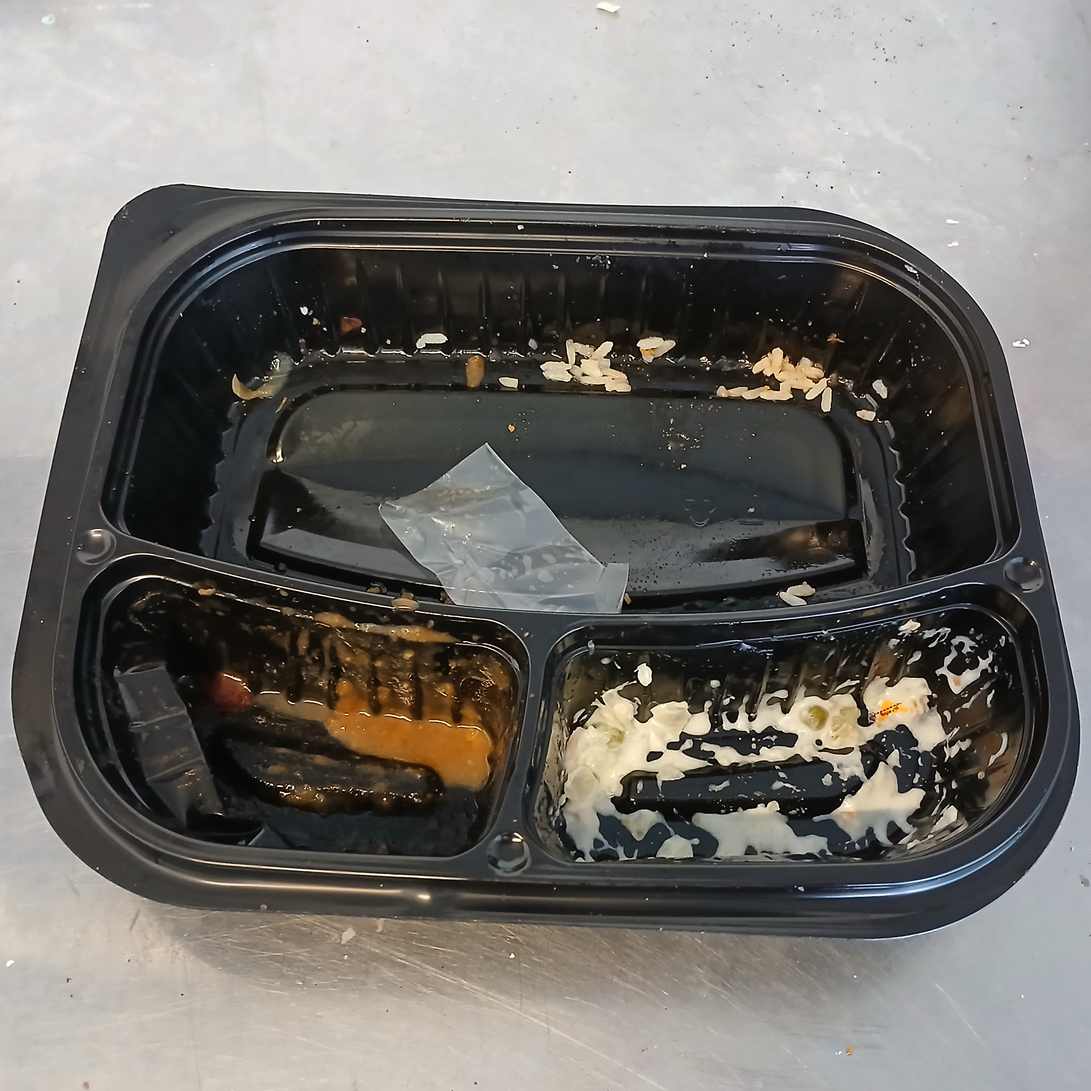Ordinario: (15, 184, 1080, 937)
